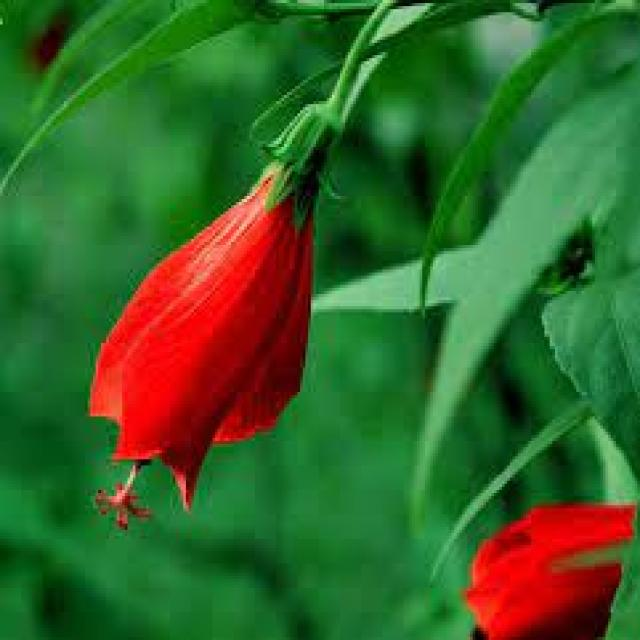Flower: (80, 43, 587, 493)
